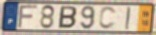8: (39, 4, 56, 30)
9: (80, 5, 97, 30)
B: (57, 5, 78, 30)
C: (98, 6, 118, 31)
F: (16, 4, 39, 29)
I: (124, 6, 132, 31)
